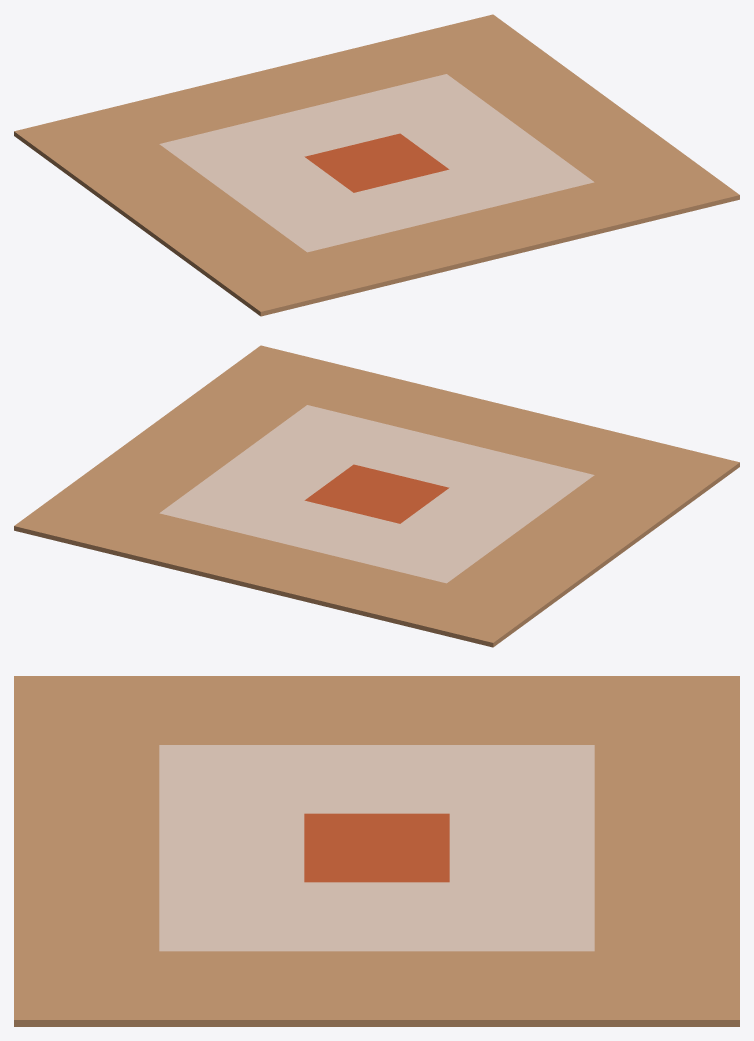
3 views of the same model, one above another, from view 1: azimuth 30°, elevation 25°; view 2: azimuth 150°, elevation 25°; view 3: azimuth 270°, elevation 25° (orthographic). The views are drawn at different scales.
Parts seen in each view (by area): view 1: Mat; view 2: Mat; view 3: Mat.
Part boxes in pixels (x1=…): Mat: x1=14, y1=14, x2=739, y2=316; Mat: x1=14, y1=345, x2=739, y2=647; Mat: x1=14, y1=676, x2=739, y2=1026.
Size of the model in its own units: 5.93 by 0.0547 by 5.29.
